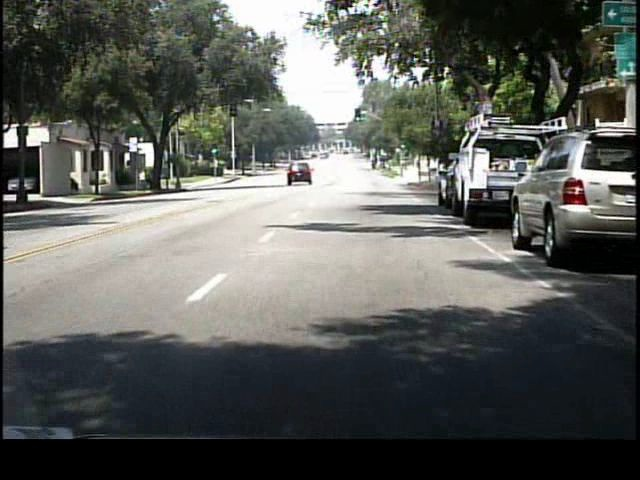person: (139, 166, 149, 190)
